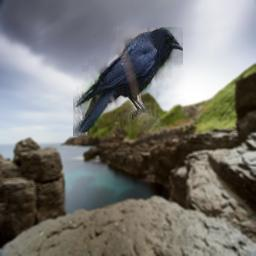Crow: (73, 27, 183, 136)
